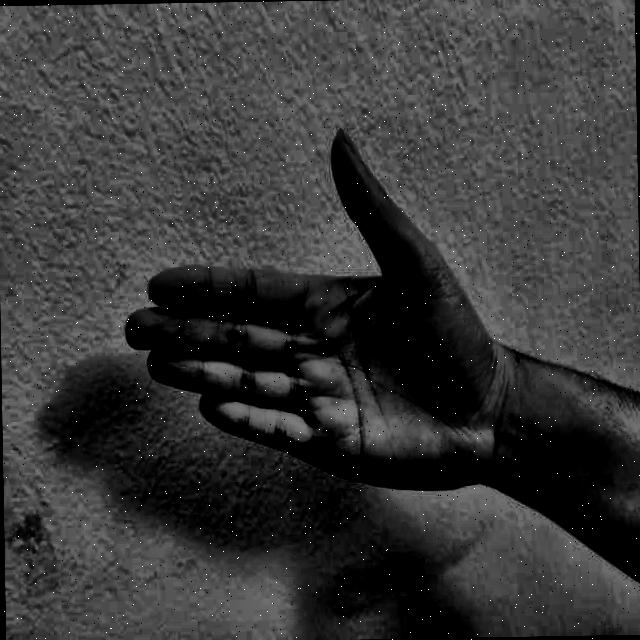Aa: (109, 95, 502, 548)
